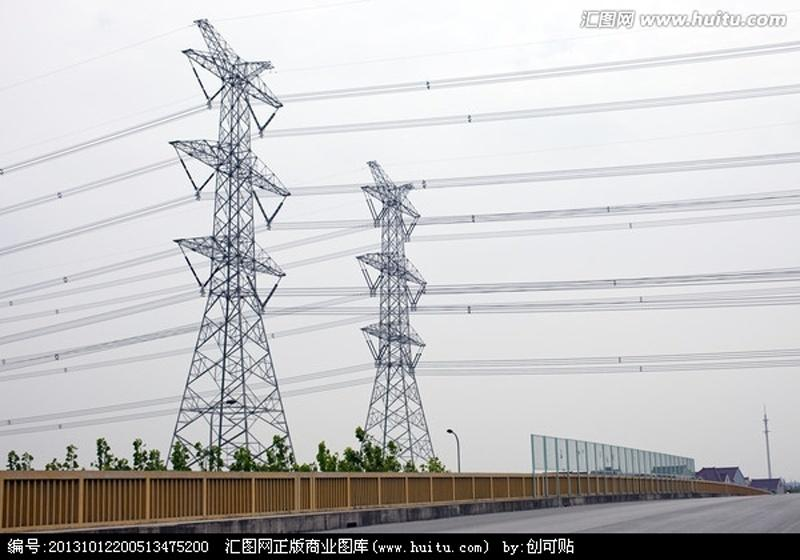power_tower: (173, 12, 292, 482), (342, 152, 454, 477)
